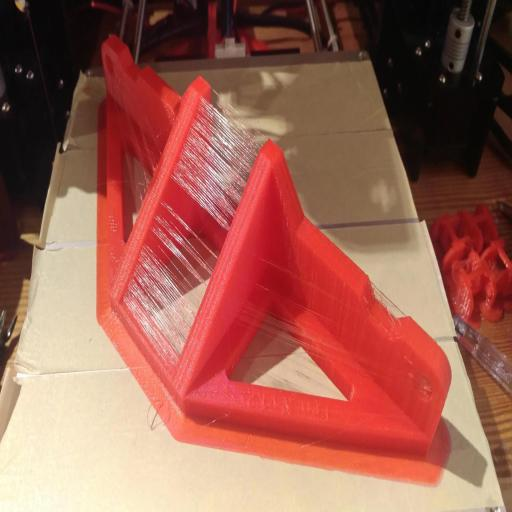stringing: (123, 196, 220, 376), (169, 85, 266, 236), (253, 300, 338, 364), (121, 123, 164, 213), (372, 284, 399, 319), (420, 376, 430, 395)
